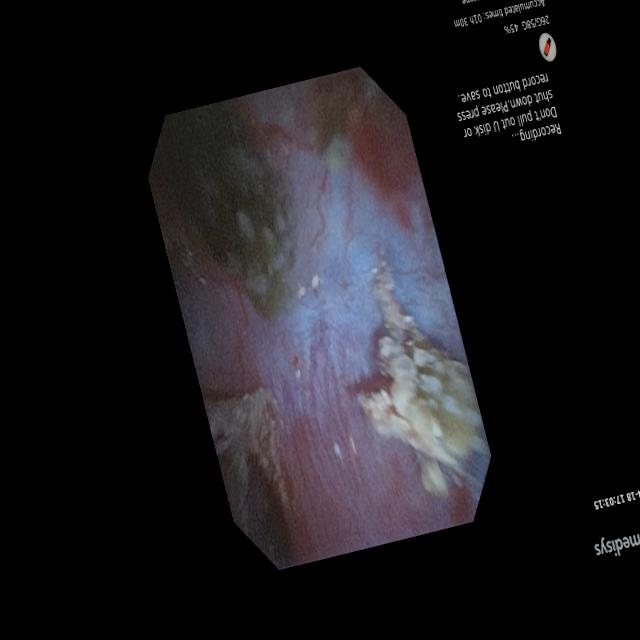stone-new: (358, 265, 490, 494), (189, 106, 298, 320), (204, 388, 287, 534)
